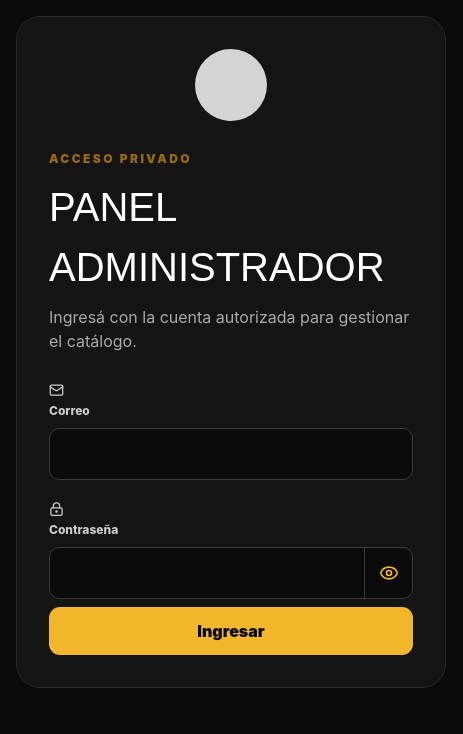
Test: Admin login errors › shows an error when the account is not an administrator
In the field labelled "Correo": (231, 454) [49, 428, 413, 480], type "user@mail.com"
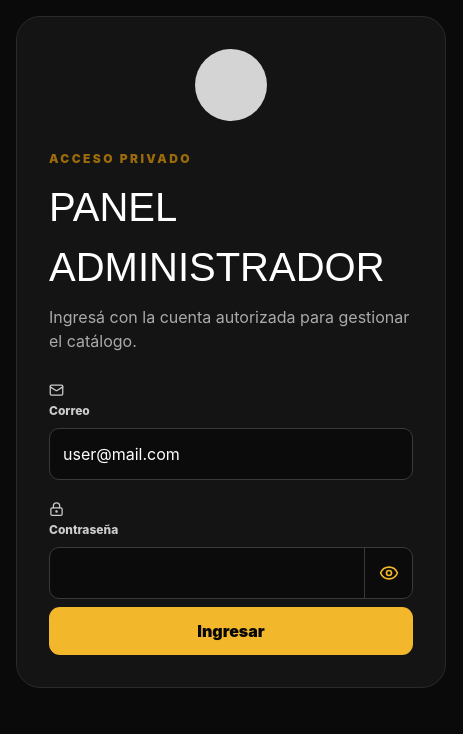
In the password field labelled "Contraseña": (207, 573) [50, 548, 364, 598], type "secreto123"
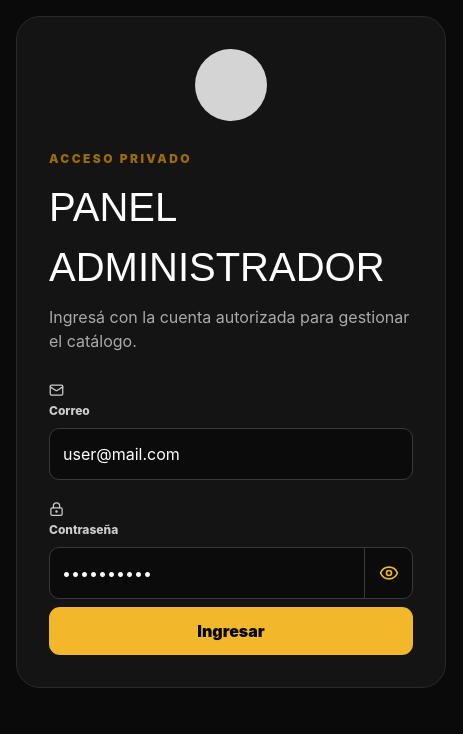
Submit the form named "ingresar"
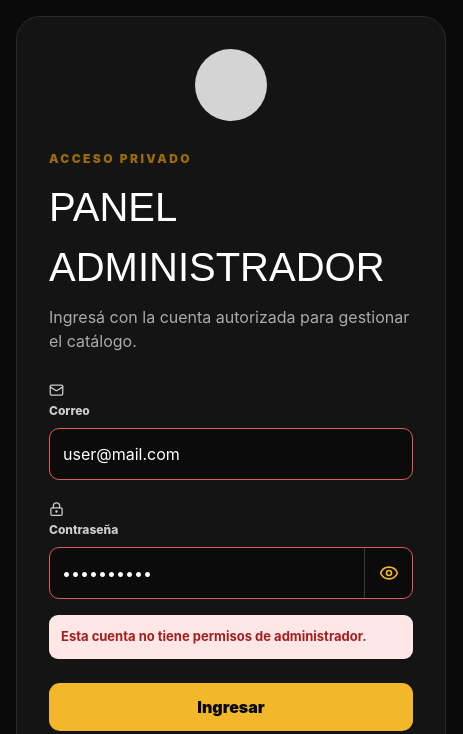
Check: the message reads "Esta cuenta no tiene permisos de administrador.", box [61, 628, 366, 644]
